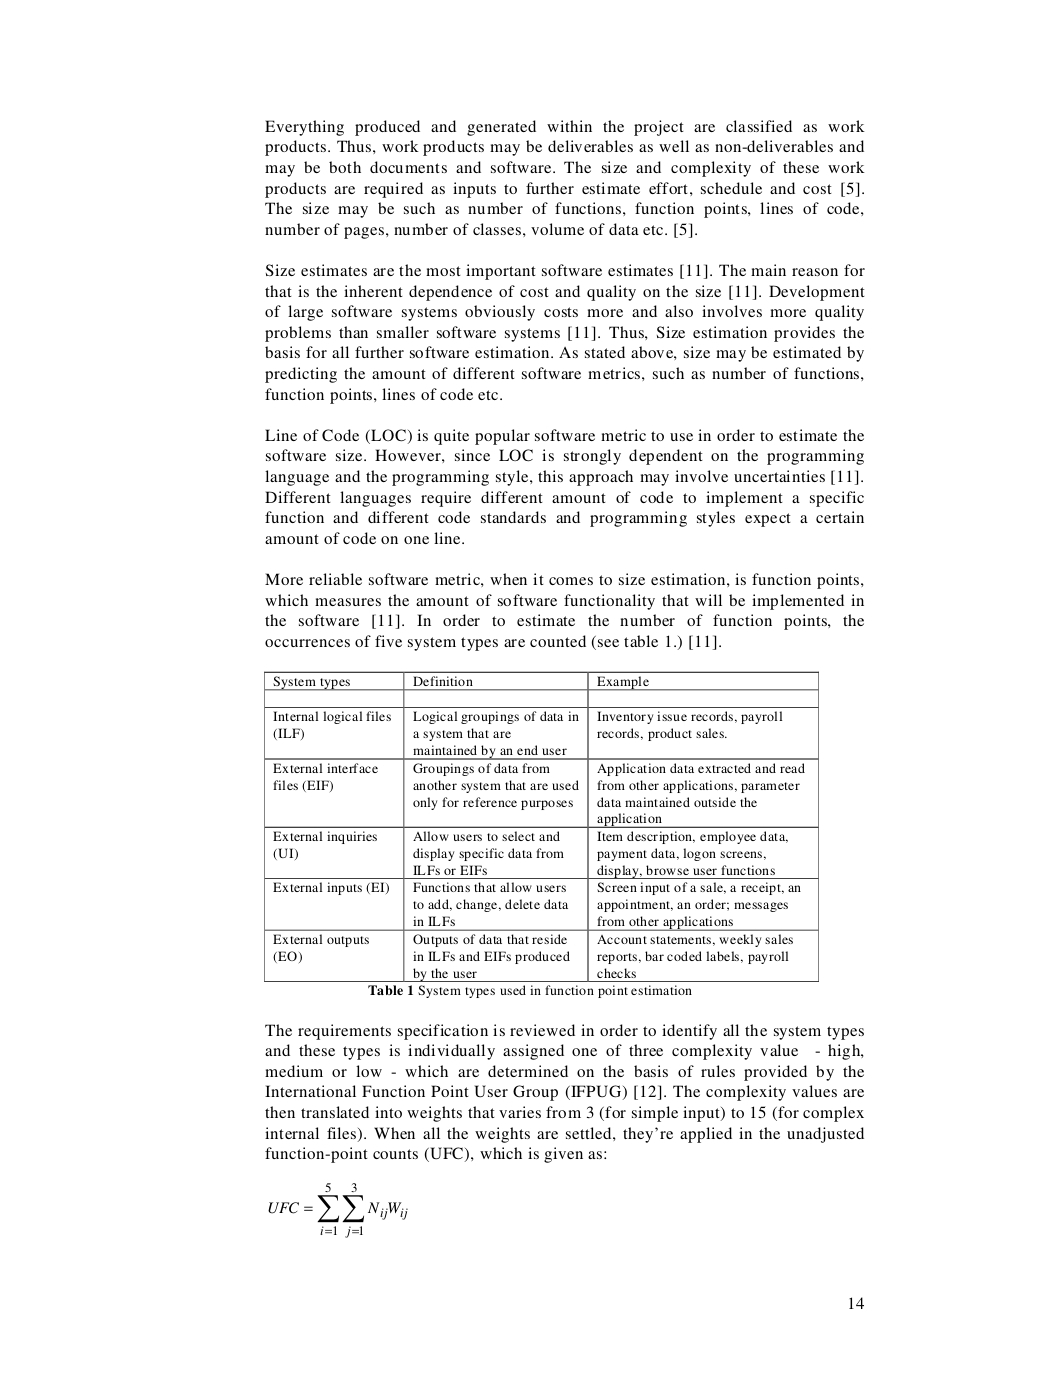Table: (264, 671, 818, 981)
formula: (267, 1184, 407, 1237)
